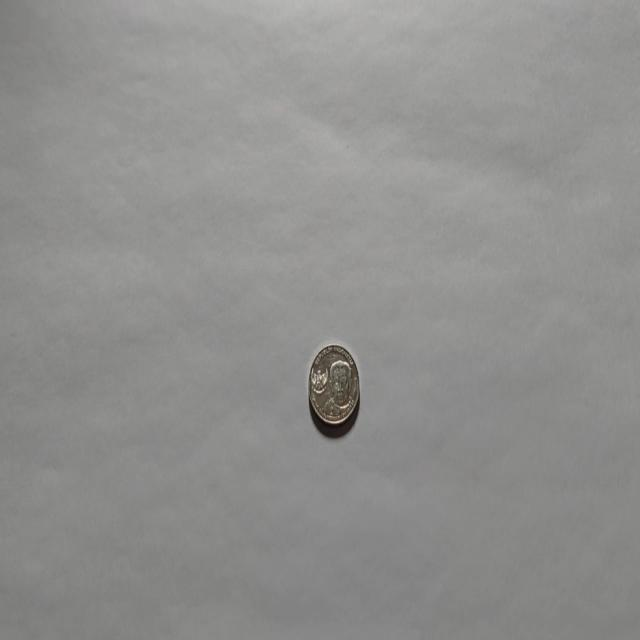seratus rupiah: (308, 342, 360, 428)
